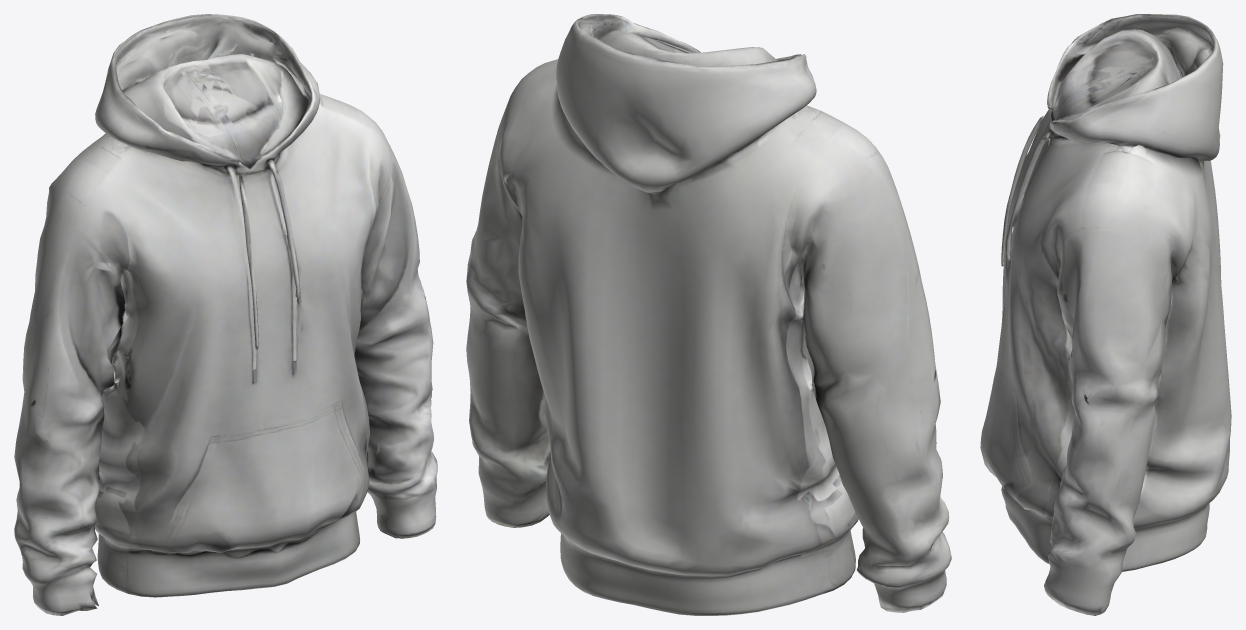
Rendered from glbhoodie.glb.
The picture shows the model from 3 angles, left to right: view 1: azimuth 30°, elevation 25°; view 2: azimuth 150°, elevation 25°; view 3: azimuth 270°, elevation 25°; orthographic projection. The views are drawn at different scales.
Bounding box in the file's own units: 1.71 × 1.99 × 0.937.
Materials: 1 (1 with a texture image).
